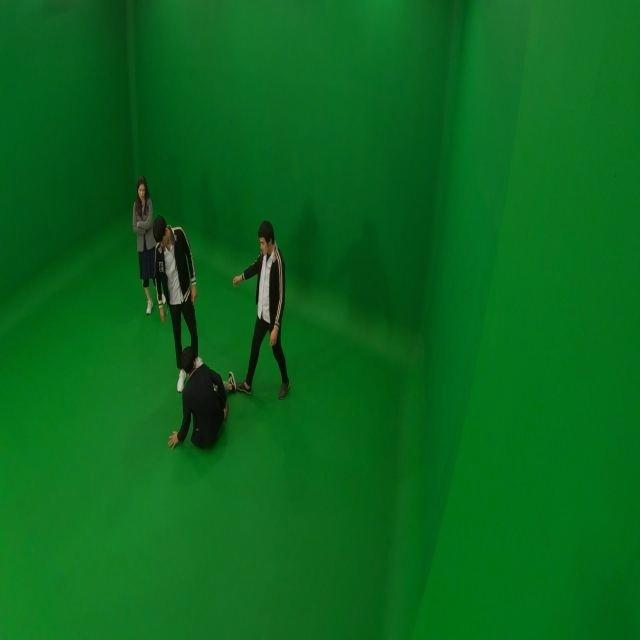fight: (146, 215, 238, 449)
non-fight: (230, 219, 290, 401), (132, 177, 161, 316)
